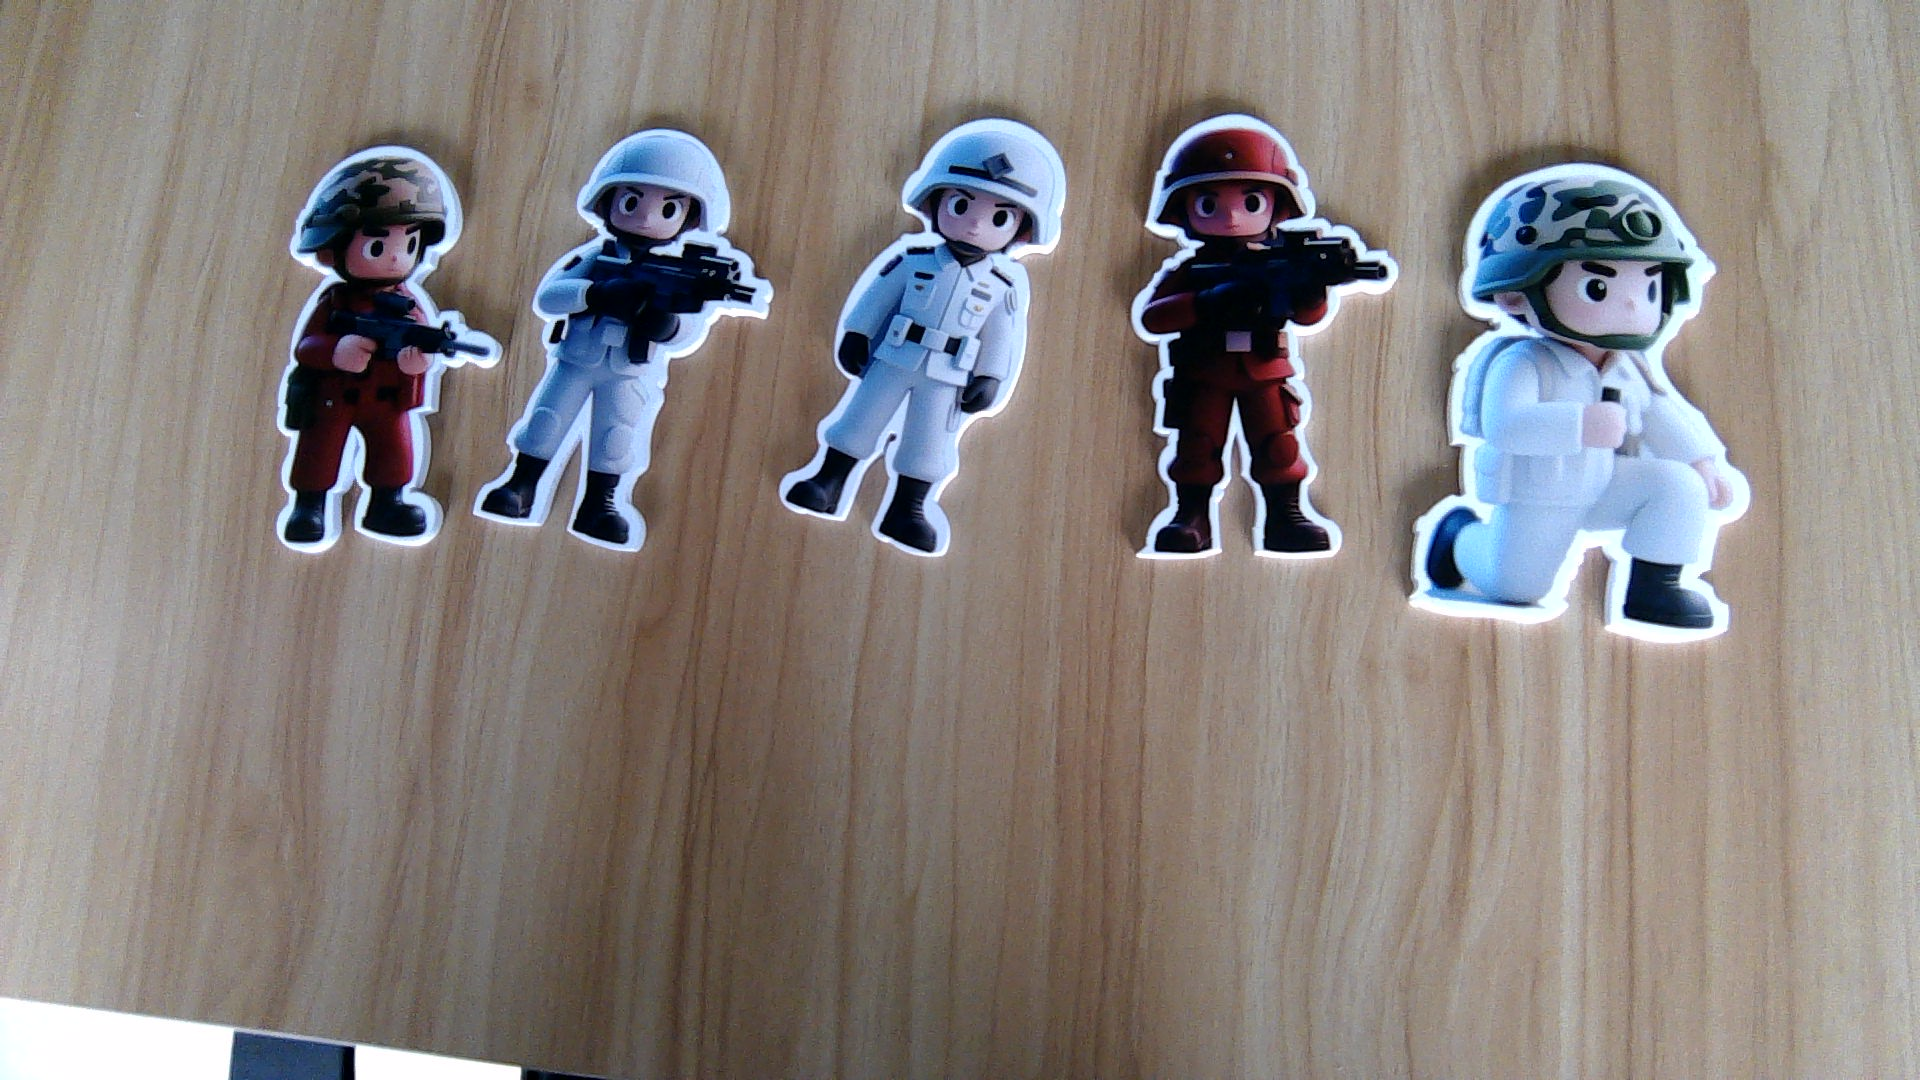人质: (1400, 353, 1753, 651), (473, 243, 761, 558), (775, 255, 1034, 558)
敌人1: (1124, 237, 1385, 564), (272, 282, 483, 546)
